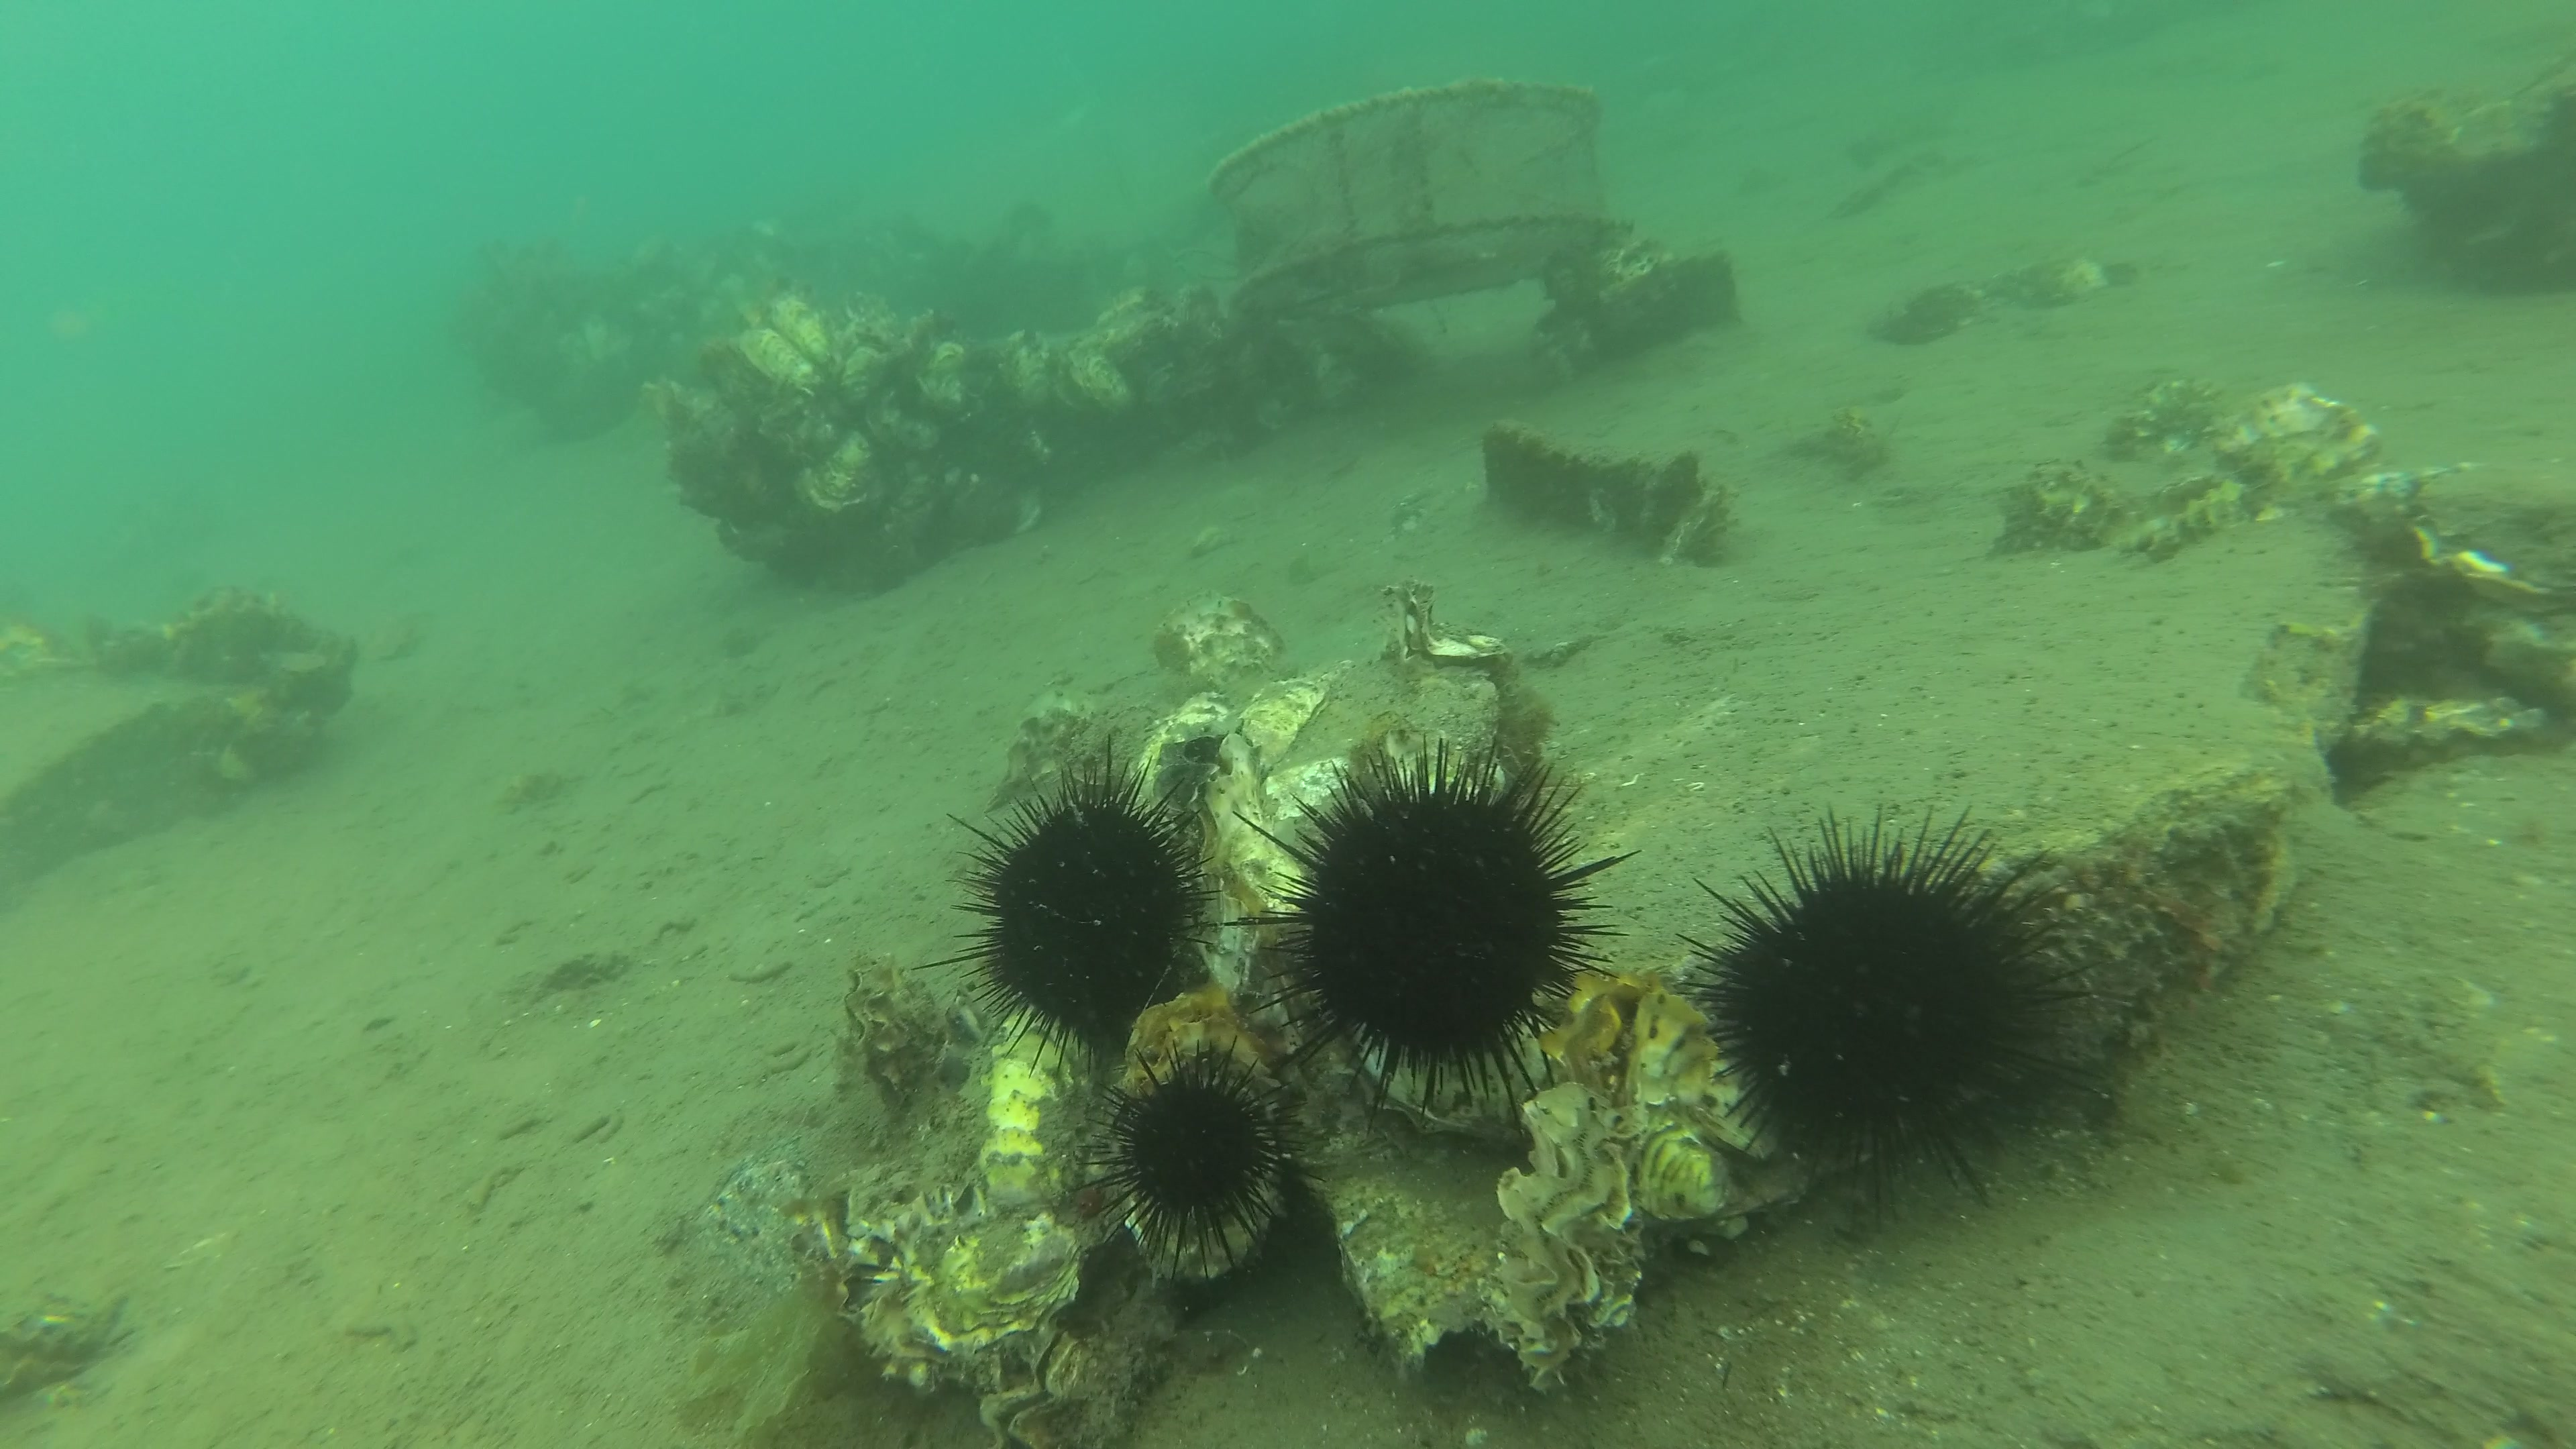echinus: (1674, 796, 2112, 1224), (1226, 731, 1640, 1136), (911, 731, 1226, 1081), (1072, 1031, 1316, 1288)
